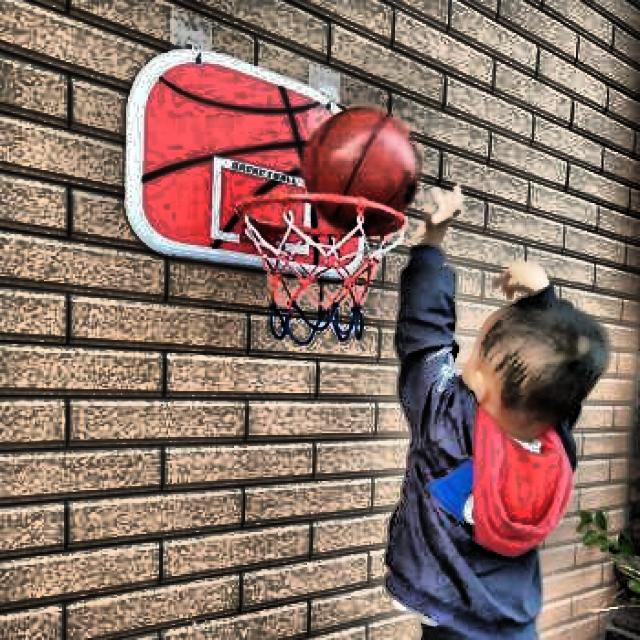board: (304, 106, 422, 218)
rim: (239, 196, 403, 340)
